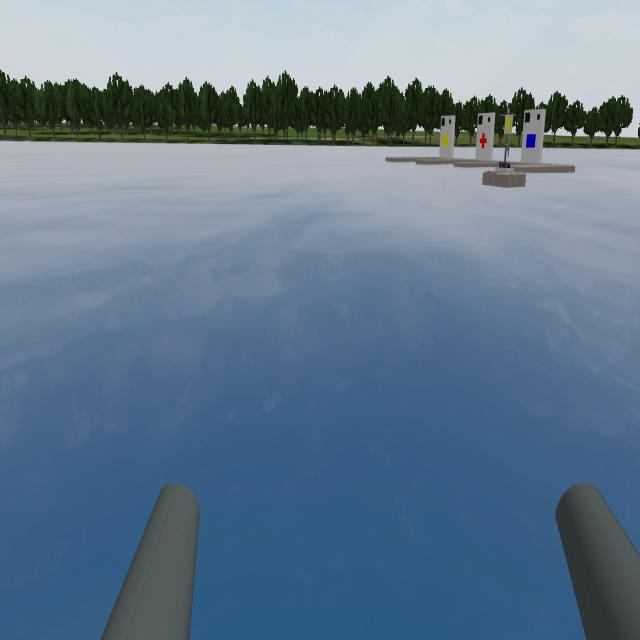yellow_pole: (500, 107, 520, 140)
